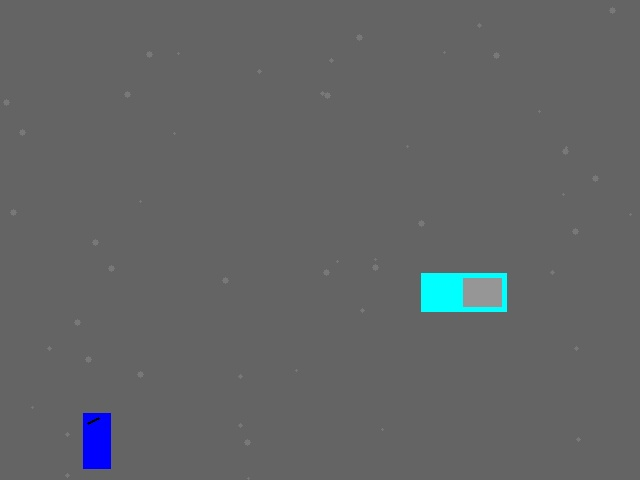motorcycle: (83, 413, 110, 468)
truck: (421, 273, 506, 311)
